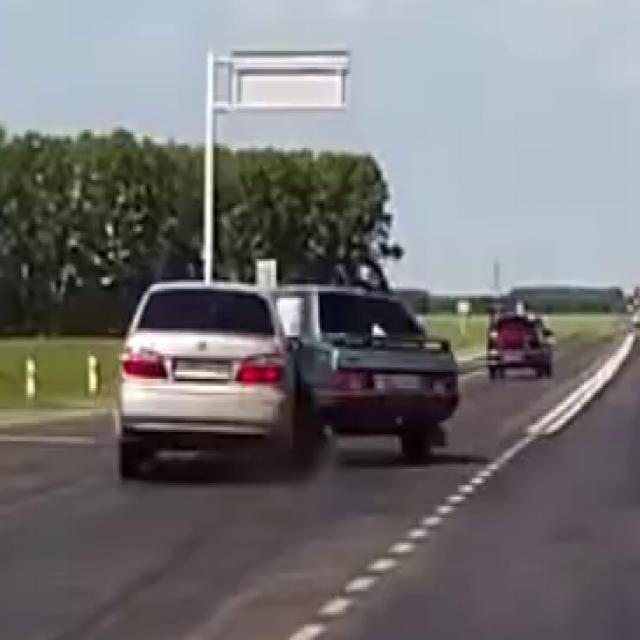accident: (114, 249, 456, 479)
